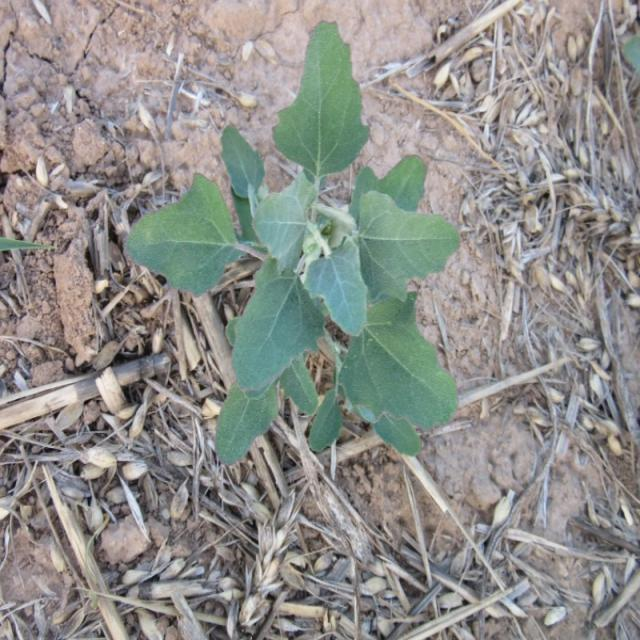ca: (130, 26, 459, 464)
